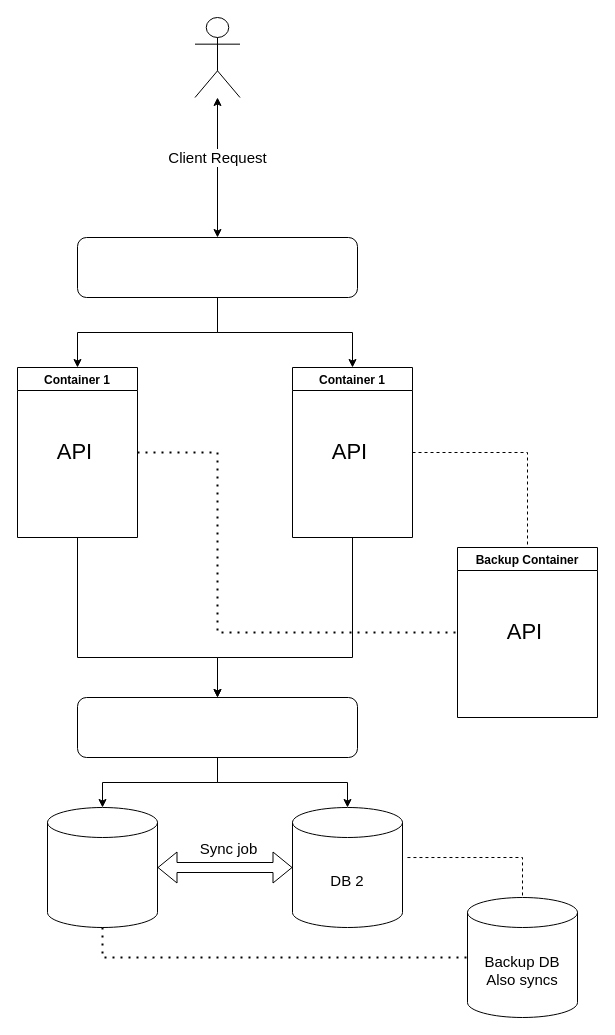
Some shapes in this 615 by 1035 pixel diagram are drawn without their labels. Each missing label, with the centre of its shape:
"Database Load Balancer" belongs at point 217,727.
"DB 1" belongs at point 102,867.
"Load Balancer" belongs at point 217,267.
